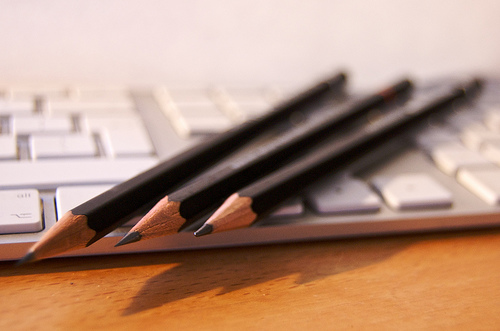pen_tip: (22, 190, 105, 266), (108, 189, 188, 254), (192, 187, 274, 250)
